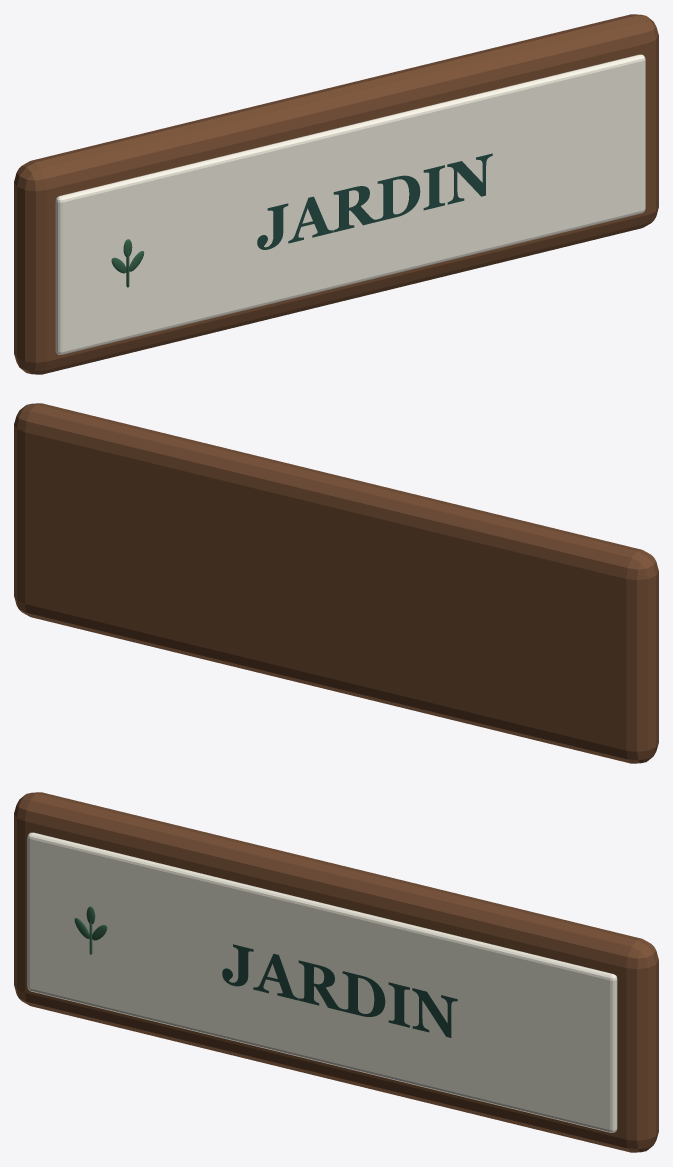
The model's file is sign_garden.glb.
The picture shows the model from 3 angles, top to bottom: view 1: azimuth 30°, elevation 25°; view 2: azimuth 150°, elevation 25°; view 3: azimuth 330°, elevation 25°; orthographic projection.
Parts seen in each view (by area): view 1: Ivory_inset, Carved_timber, Flat_direction; view 2: Carved_timber; view 3: Ivory_inset, Carved_timber, Flat_direction.
Boxes of the visible parts, x1,y1,x2,y2 form: Ivory_inset: (55,54,645,354); Carved_timber: (14,14,658,374); Flat_direction: (257,153,492,249); Carved_timber: (14,403,658,763); Ivory_inset: (27,832,617,1132); Carved_timber: (14,792,658,1152); Flat_direction: (222,944,457,1037).
Size of the model in its own units: 0.76 by 0.24 by 0.062.
